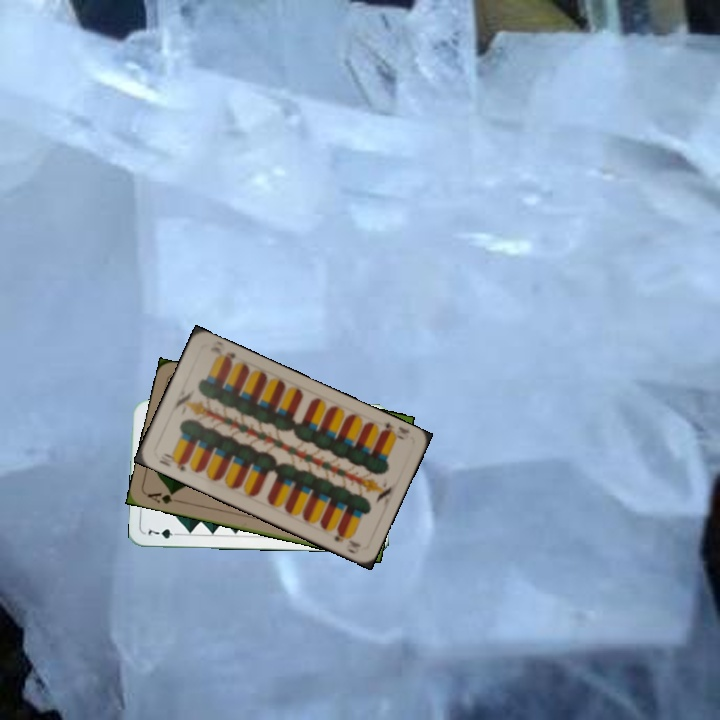E10: (375, 418, 411, 443), (155, 449, 190, 474)
G7: (144, 524, 184, 541)
GA: (143, 488, 184, 507)
